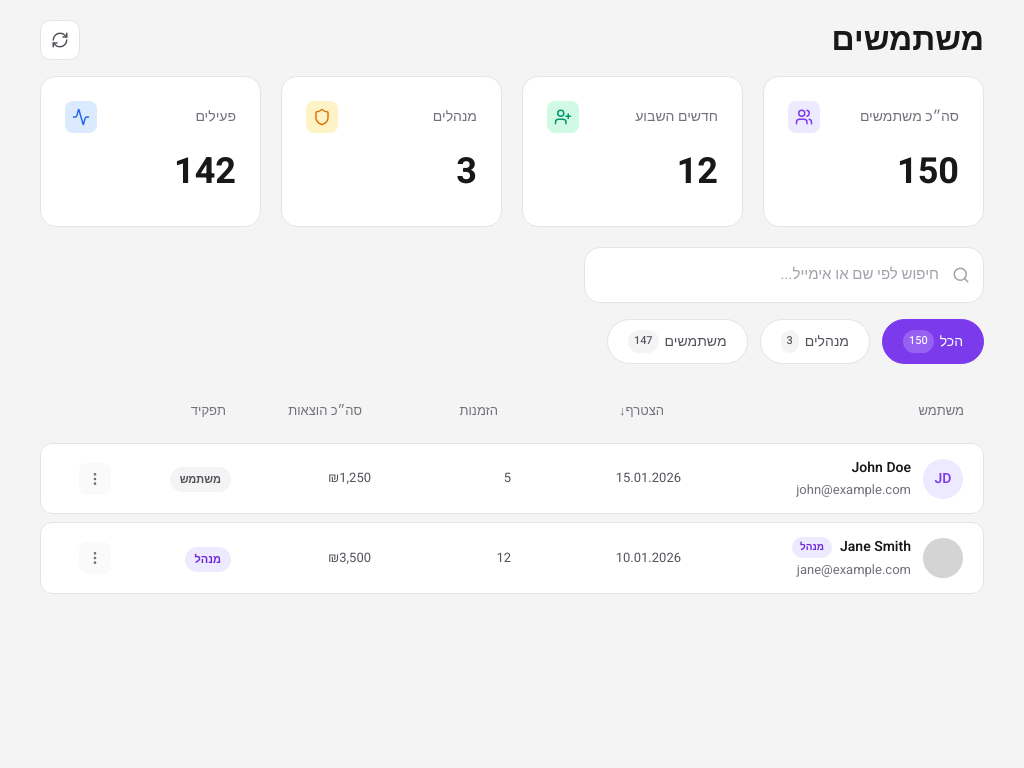
AdminUsersPage › Users List › should show quick action menu
What coordinates should you click on to do the following:
click the button with test id "action-button-user-1"
I would click on:
 (95, 478)
Its box is [79,462,111,494].
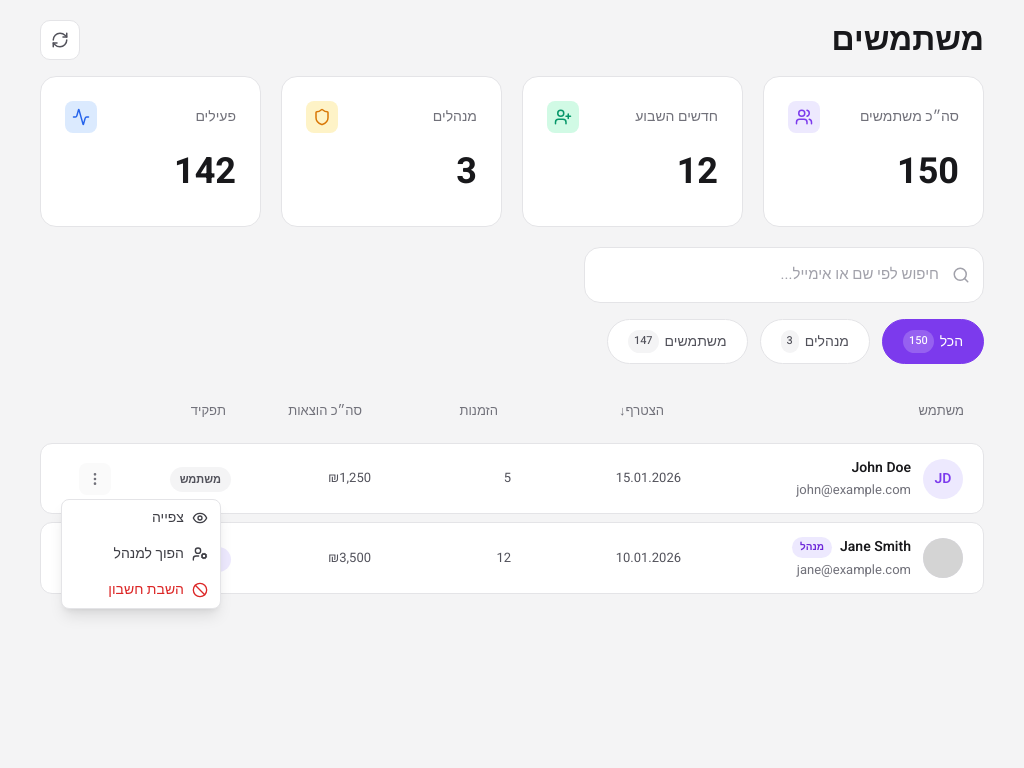
Expected: the element with test id "dropdown-user-1" is shown, [61,498,221,608]
Expected: the button "צפייה" is shown, [62,500,220,536]
Expected: the button "הפוך למנהל" is shown, [62,536,220,572]
